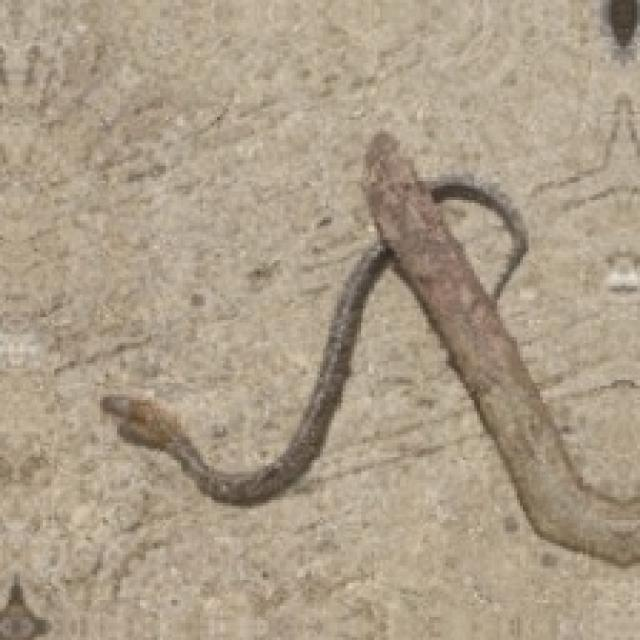philippine cobra: (100, 131, 637, 563), (166, 131, 637, 563), (434, 197, 511, 294)
